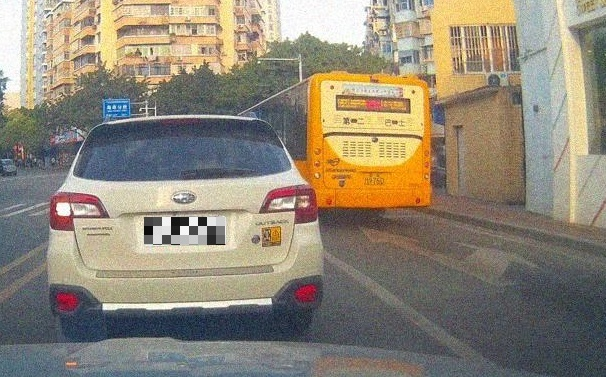L_light: (49, 191, 111, 231)
R_light: (258, 183, 318, 224)
T_light: (160, 118, 200, 125)
day-left: (46, 113, 325, 334)
plate_1: (144, 217, 226, 245)
